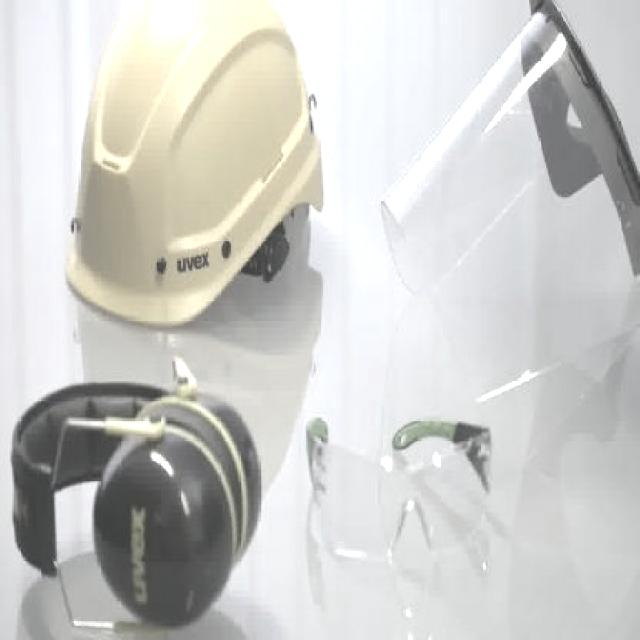Helmet: (63, 0, 326, 331)
